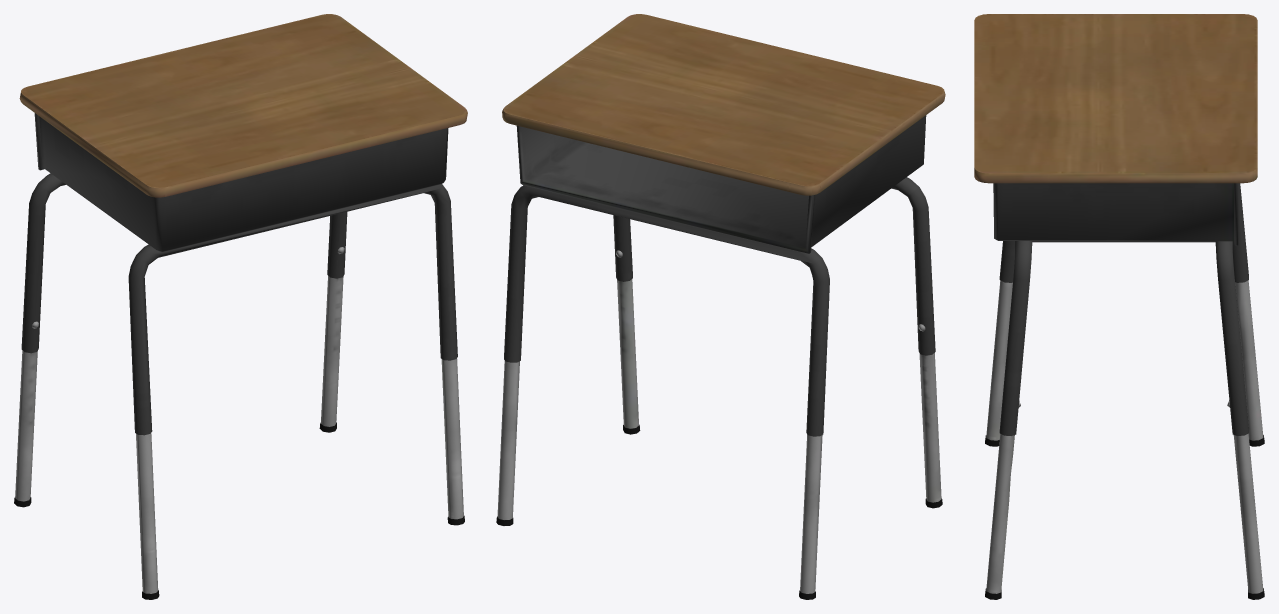
Rendered from SchoolDesk_01.glb.
3 views of the same model, side by side, from view 1: azimuth 30°, elevation 25°; view 2: azimuth 150°, elevation 25°; view 3: azimuth 270°, elevation 25° (orthographic). The views are drawn at different scales.
Parts seen in each view (by area): view 1: SchoolDesk_01; view 2: SchoolDesk_01; view 3: SchoolDesk_01.
Part boxes in pixels (x1,y1,x2,y2): SchoolDesk_01: [14, 14, 467, 599]; SchoolDesk_01: [496, 14, 945, 599]; SchoolDesk_01: [974, 14, 1264, 599].
Bounding box in the file's own units: 0.7102 × 0.8826 × 0.5438.
1 material, 1 textured.
